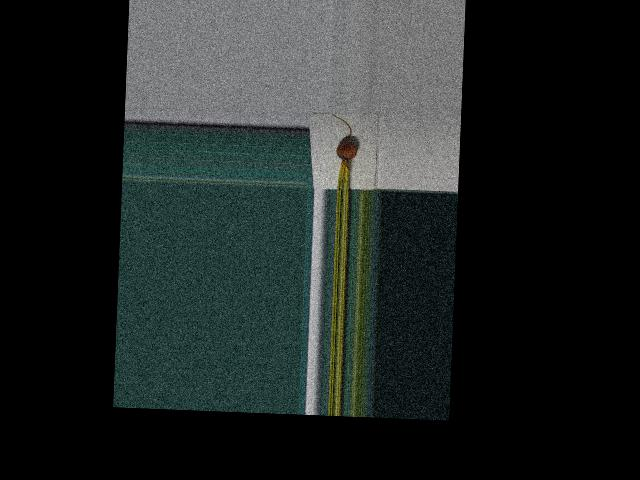beet: (329, 114, 358, 190)
